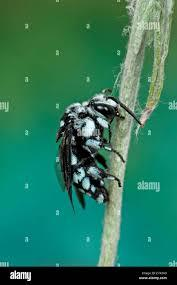Thyreus: (52, 86, 149, 211)
